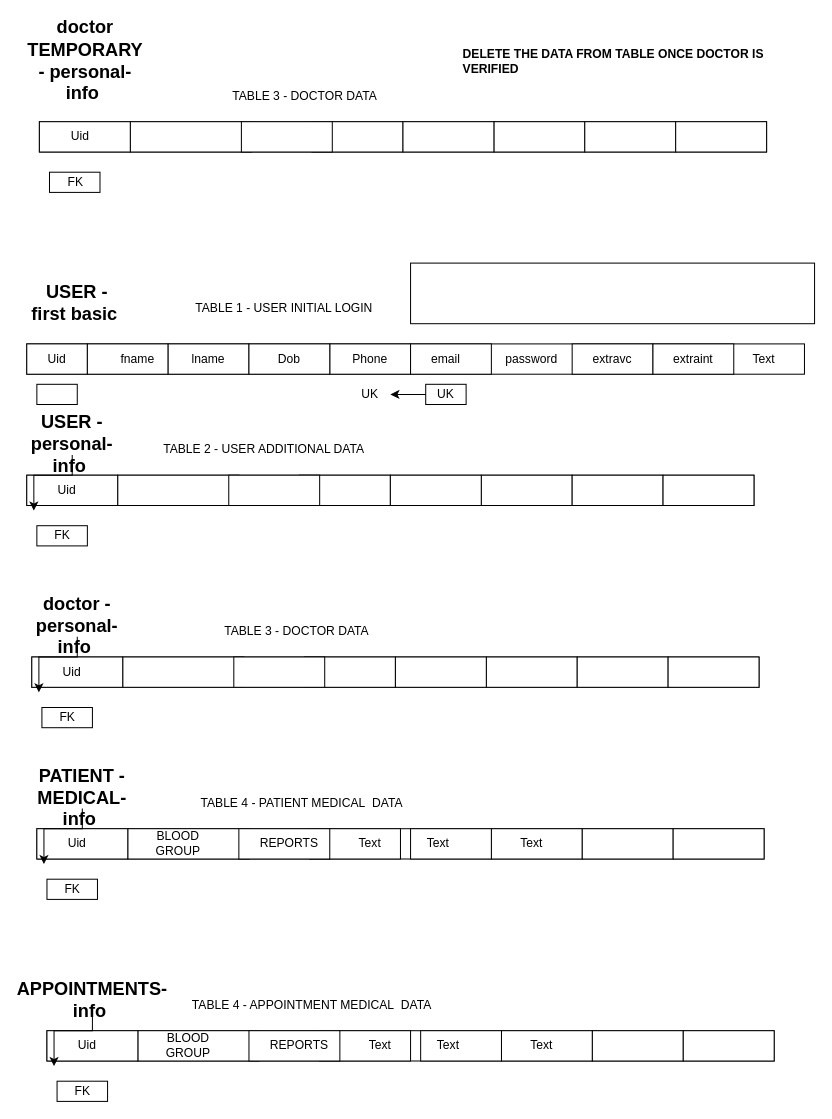
This 832x1119 diagram has some shape labels left out. Each missing label, with the centre of its shape:
CHECK FOR UNIQUE KEYS ---> SELECT STATEMENT BEFORE INSERT STATEMENT: point 612,293
PK: point 56,394
